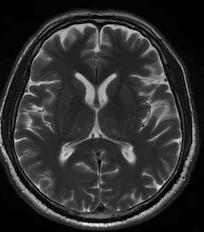Normal_Brain: (1, 1, 204, 232)
